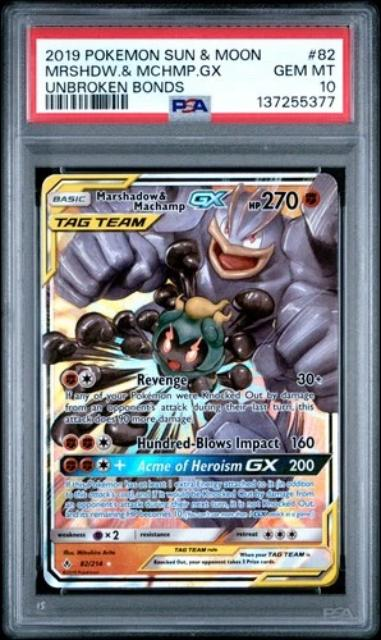Card: (35, 168, 347, 592)
Name: (89, 186, 244, 212)
